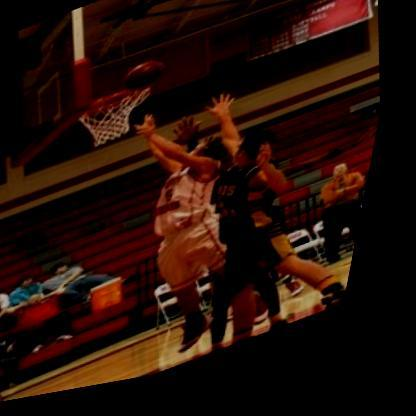basketball: (119, 56, 177, 106)
rim: (81, 81, 164, 158)
